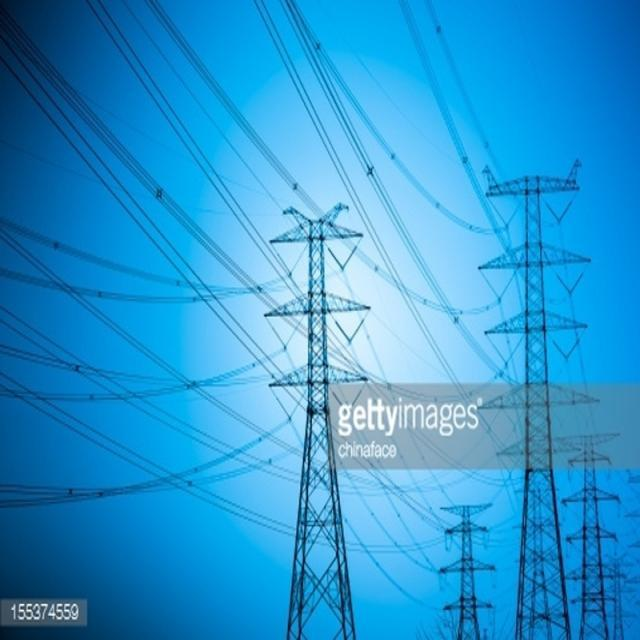non-critical vegetation: (279, 202, 375, 615), (501, 166, 581, 624), (562, 448, 620, 628), (431, 490, 500, 616)
